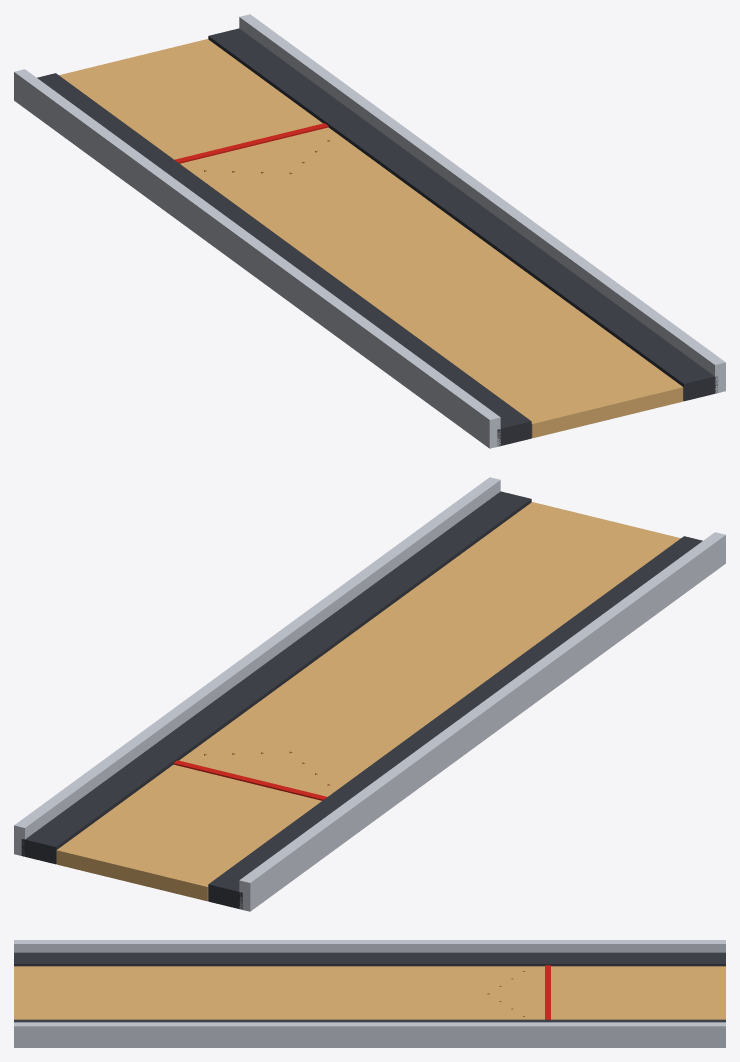
File: bowling_lane.glb
3 renders of one model, top to bottom at view 1: azimuth 30°, elevation 25°; view 2: azimuth 150°, elevation 25°; view 3: azimuth 270°, elevation 25°, orthographic. The views are drawn at different scales.
Visible parts, largest first — view 1: bowling_lane; view 2: bowling_lane; view 3: bowling_lane.
Part boxes in pixels (x1,y1,x2,y2): bowling_lane: [14, 14, 725, 448]; bowling_lane: [14, 477, 725, 911]; bowling_lane: [14, 940, 725, 1047].
Size of the model in its own units: 1.72 by 0.2 by 6.
